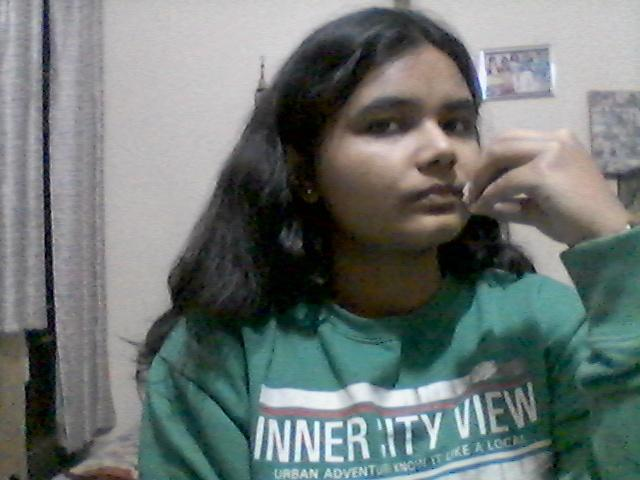eat: (446, 129, 640, 266)
